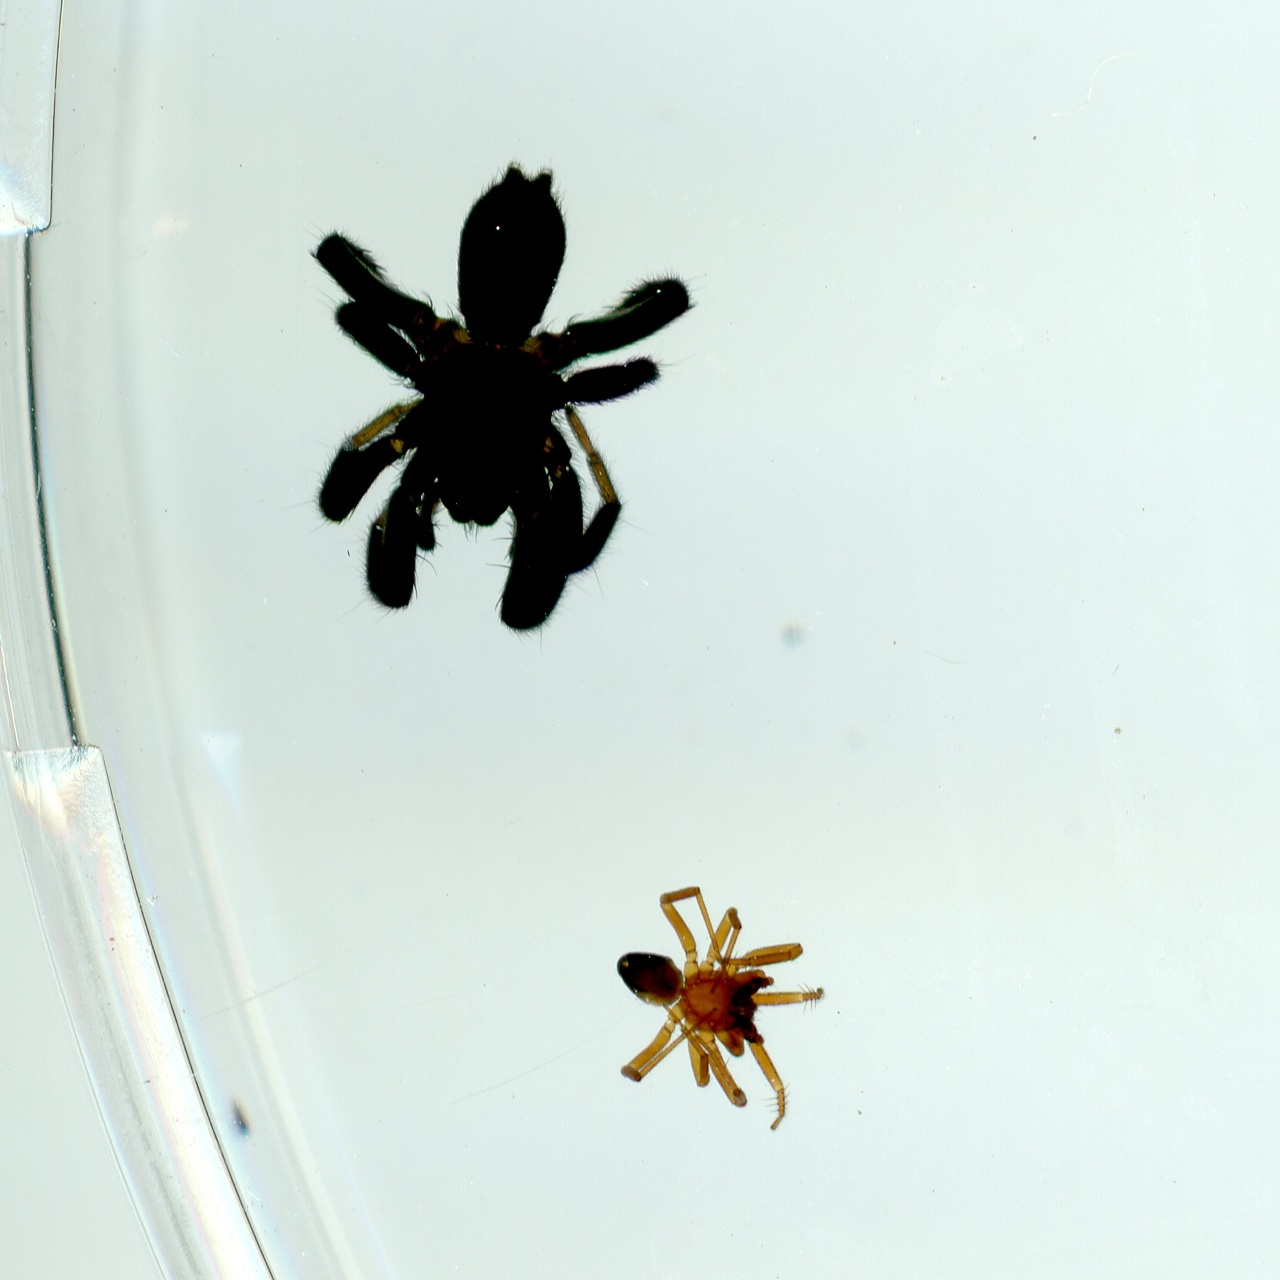arthropod: (292, 150, 714, 644), (594, 874, 859, 1167)
